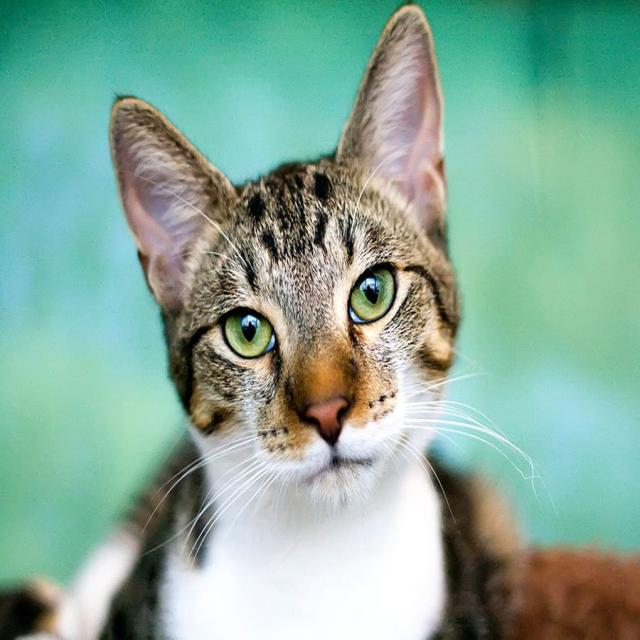cat: (97, 101, 500, 549)
